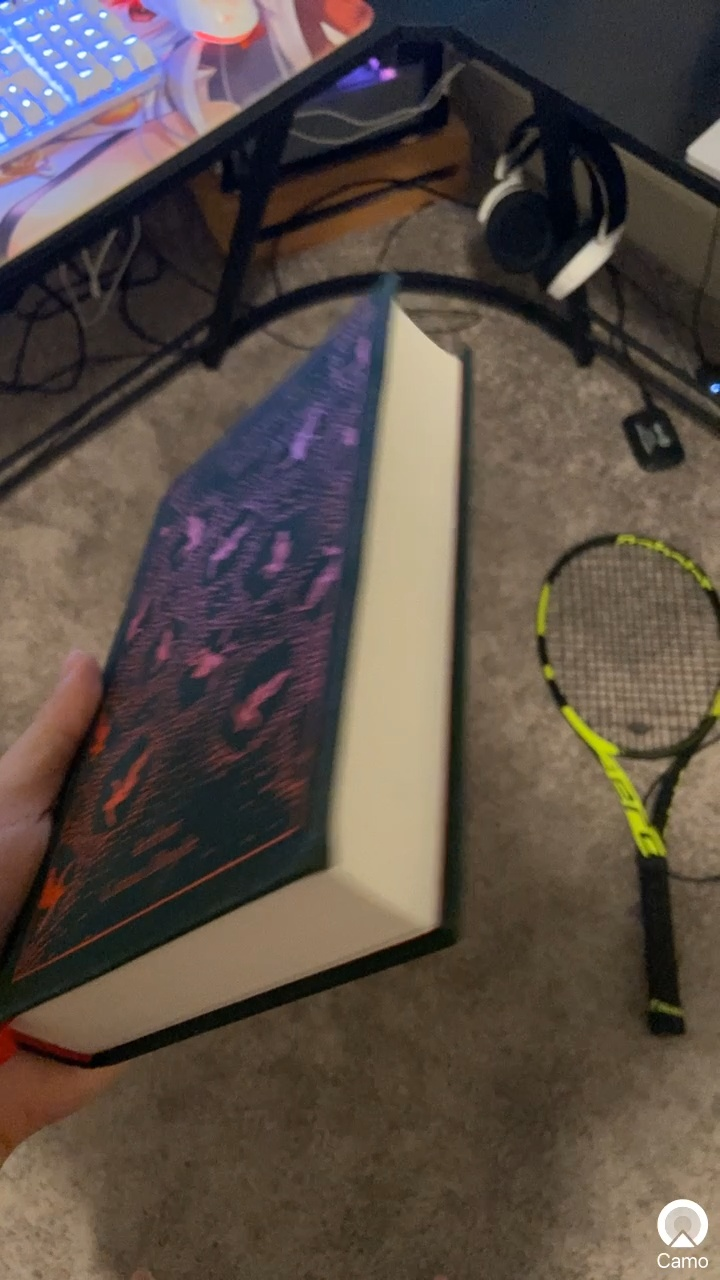Book: (1, 271, 517, 1079)
